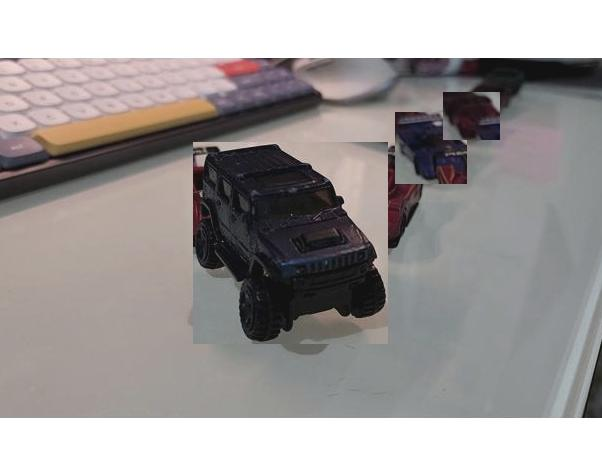toy-car: (193, 143, 388, 345), (358, 146, 432, 250), (395, 113, 467, 185), (443, 92, 500, 140)
